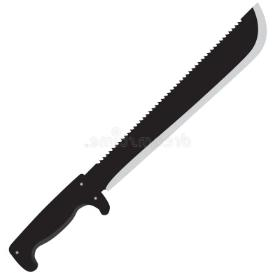MACHETTE: (0, 0, 270, 273)
